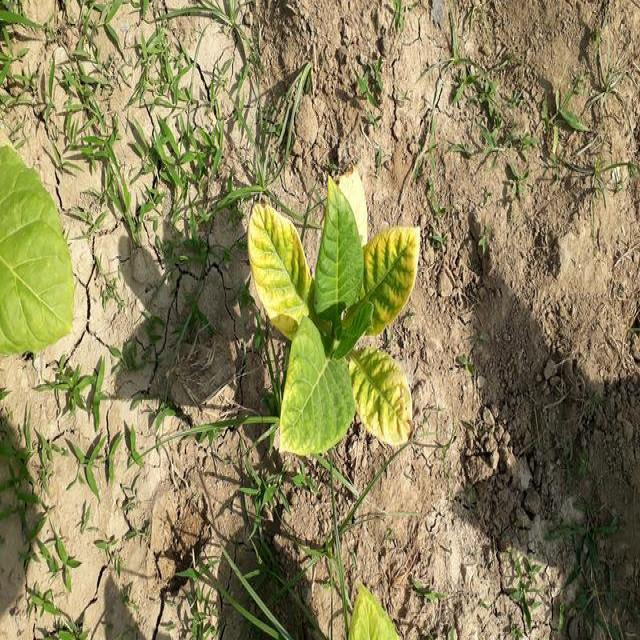crop: (246, 172, 422, 456)
